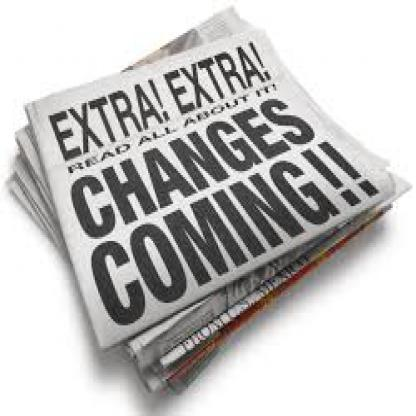paper: (15, 4, 409, 361), (23, 23, 393, 350), (10, 152, 409, 392), (5, 173, 220, 395)
